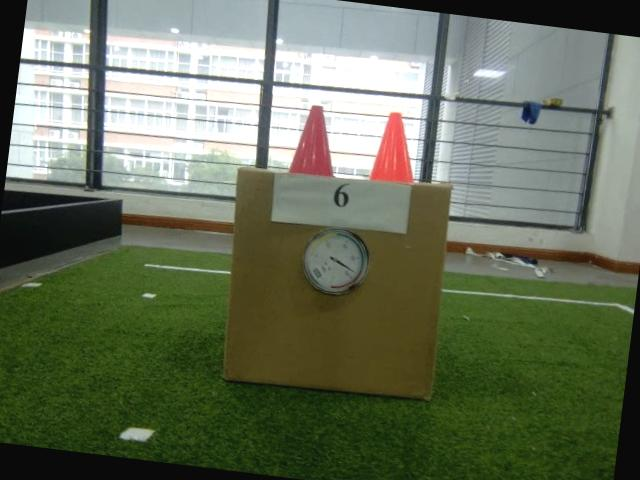6: (329, 180, 353, 210)
Dashboard: (296, 225, 374, 299)
orange_barrel: (367, 110, 422, 186)
red_barrel: (285, 101, 346, 180)
ssi: (310, 267, 324, 280)
